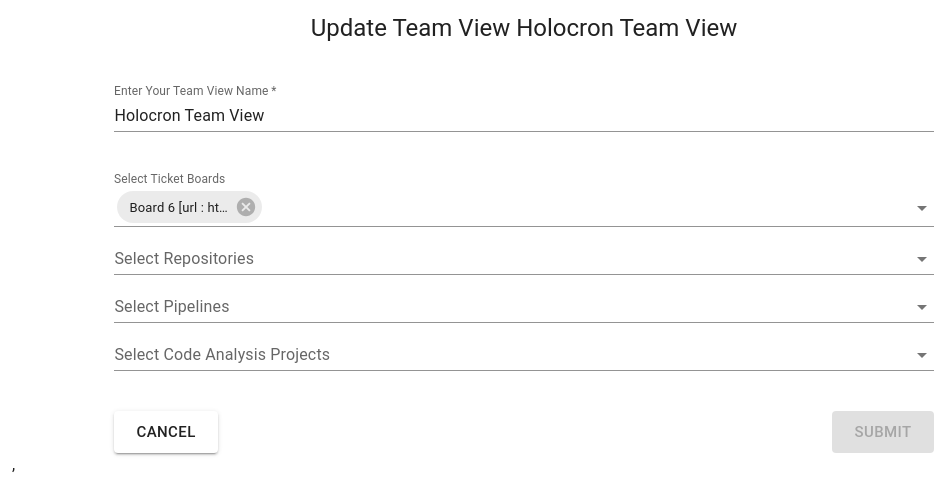
Test: Form validation › name field › should allow submission if team view name changes to a valid one
Type "foo bar" into the field labelled "Enter Your Team View Name" at coordinates (524, 116), box left=114, top=100, right=934, bottom=132
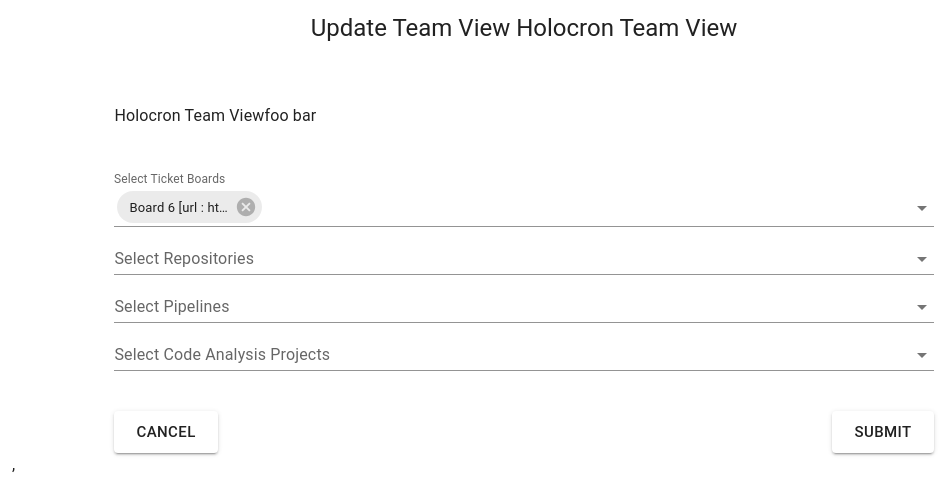
Expected: the button with aria-label "Submit Your Form" is enabled, left=832, top=411, right=934, bottom=453
